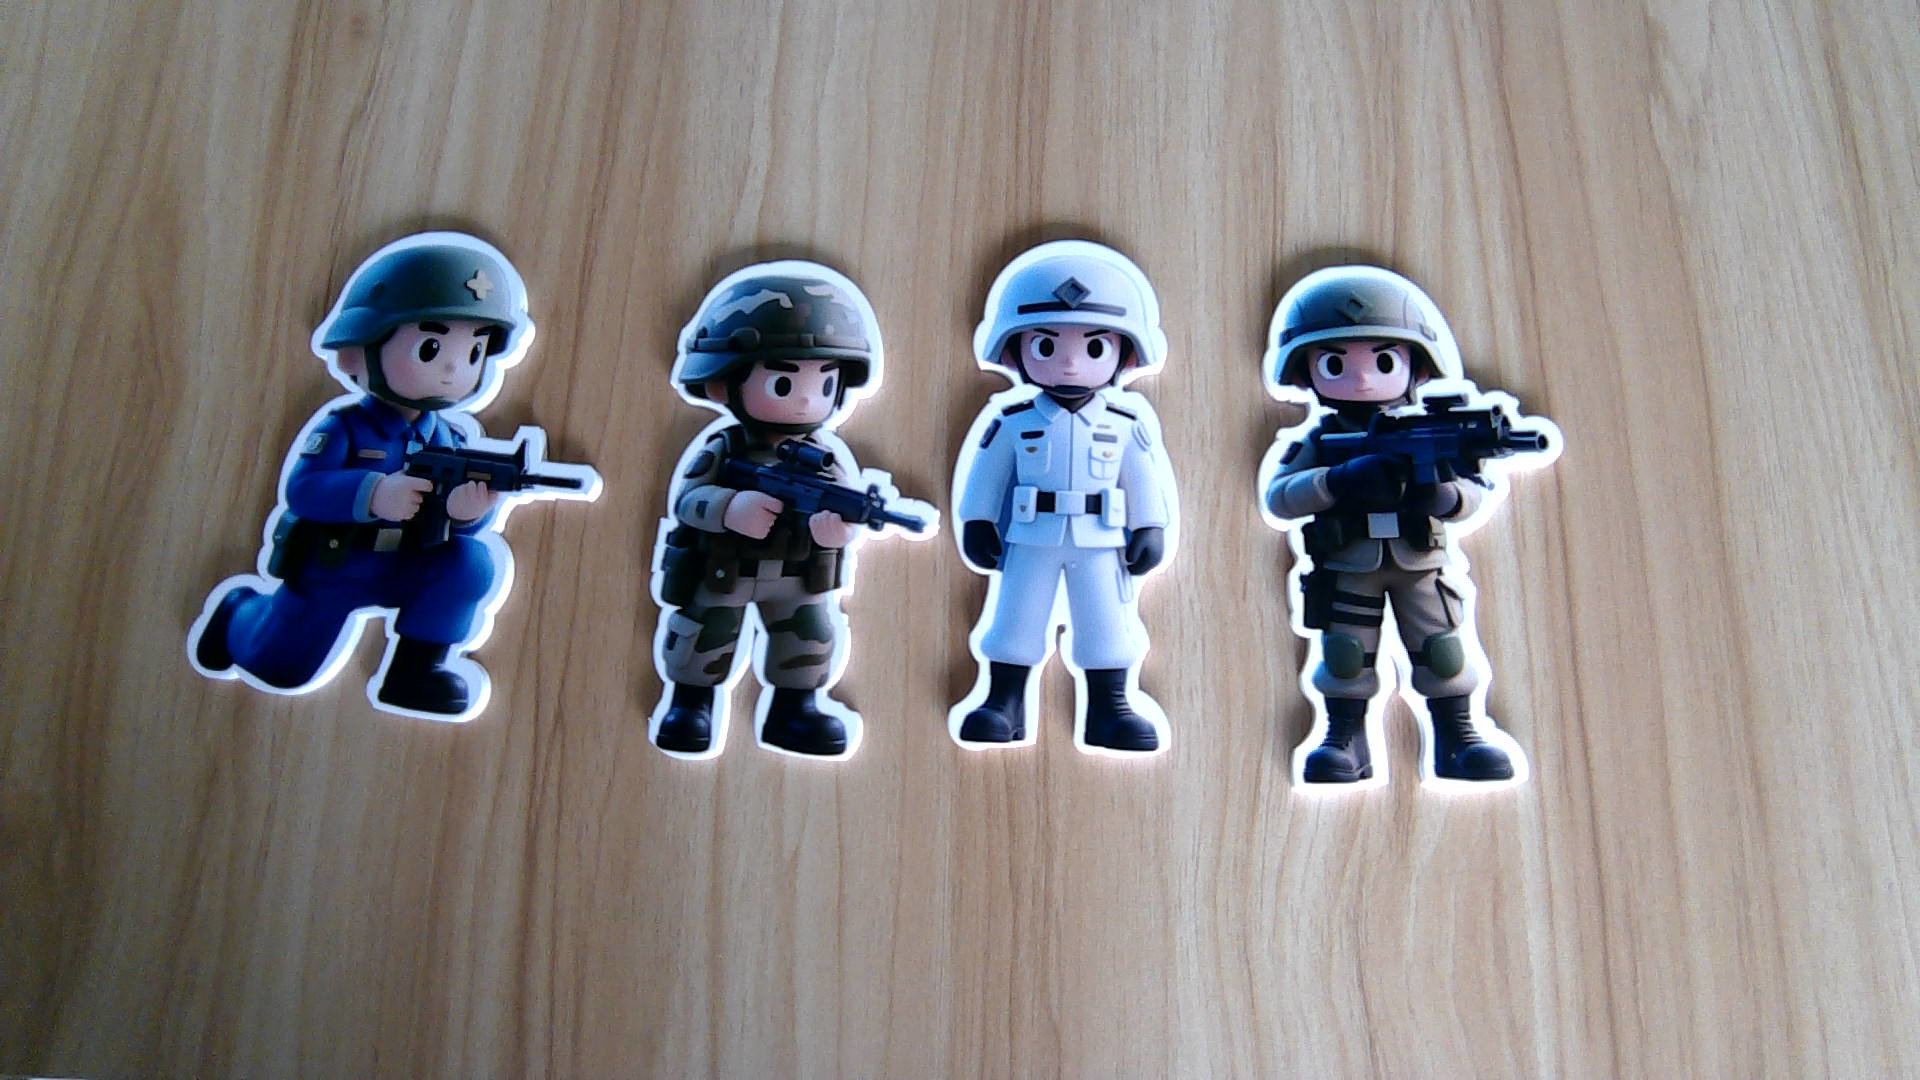人质: (944, 386, 1193, 756)
友军: (1253, 407, 1565, 798), (644, 419, 923, 767)
敌人2: (182, 407, 596, 720)
